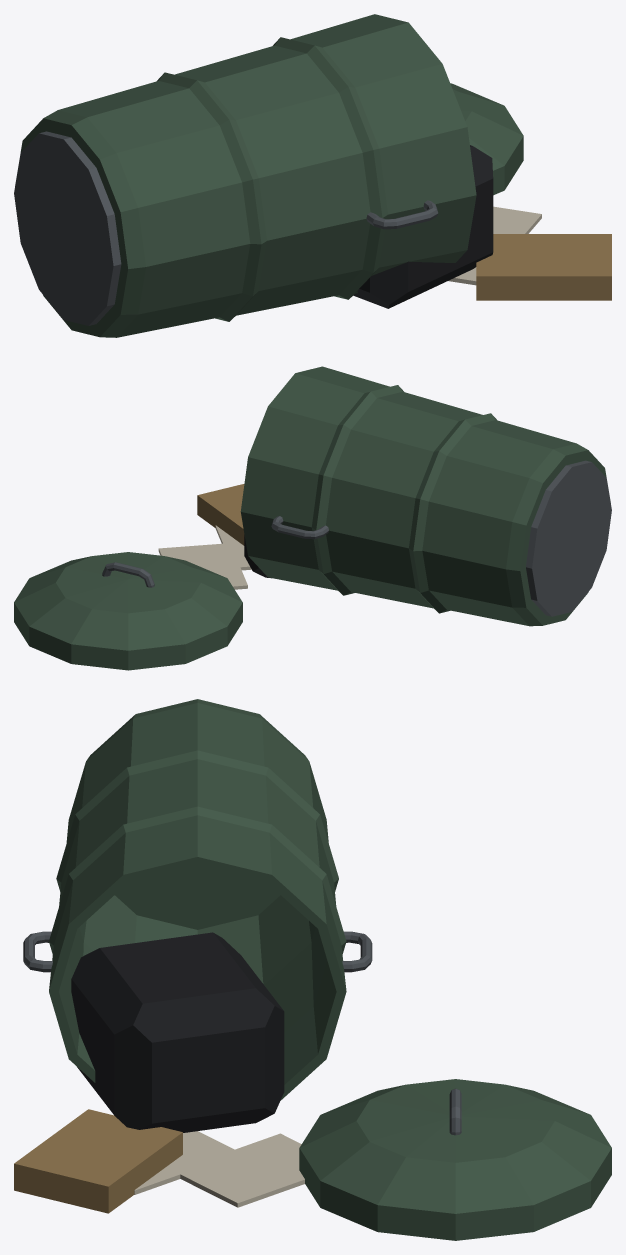
The model's file is poubelle_renversee.glb.
3 views of the same model, one above another, from view 1: azimuth 30°, elevation 25°; view 2: azimuth 150°, elevation 25°; view 3: azimuth 270°, elevation 25° (orthographic). The views are drawn at different scales.
Visible parts, largest first — view 1: can, bottom, box, bag, lid, papers, handle_l; view 2: can, lid, bottom, papers, box, handle_r, knob; view 3: can, lid, bag, box, papers, handle_r, handle_l.
Part boxes in pixels (x1,y1,x2,y2): can: [20, 14, 476, 337]; bottom: [14, 131, 121, 325]; box: [476, 234, 611, 300]; bag: [353, 145, 493, 308]; lid: [450, 83, 523, 195]; papers: [448, 206, 541, 285]; handle_l: [366, 200, 438, 229]; can: [240, 366, 606, 626]; lid: [14, 552, 242, 670]; bottom: [526, 460, 611, 616]; papers: [158, 525, 251, 589]; box: [197, 484, 244, 545]; handle_r: [271, 516, 328, 539]; knob: [102, 562, 154, 587]; can: [49, 699, 346, 1100]; lid: [299, 1079, 611, 1240]; bag: [71, 932, 284, 1132]; box: [14, 1109, 182, 1213]; papers: [134, 1131, 304, 1207]; handle_r: [342, 931, 372, 972]; handle_l: [23, 931, 52, 972].
Size of the model in its own units: 1.43 by 0.6 by 1.21.
5 materials, 5 textured.
